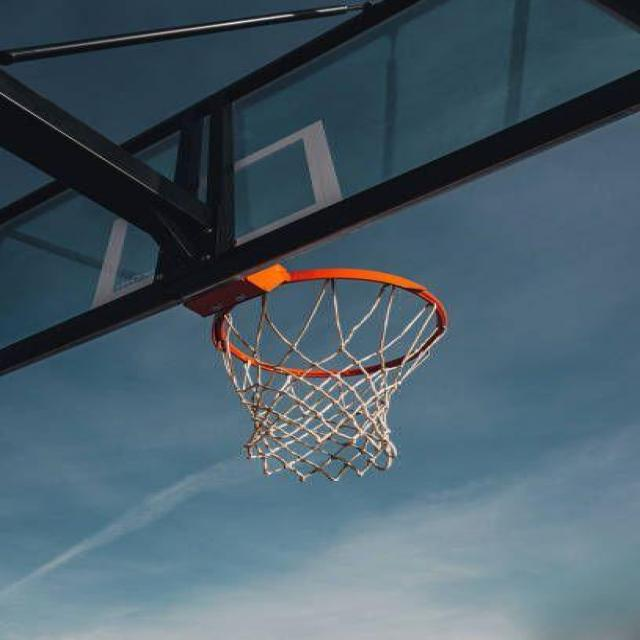hoop: (238, 256, 472, 502)
